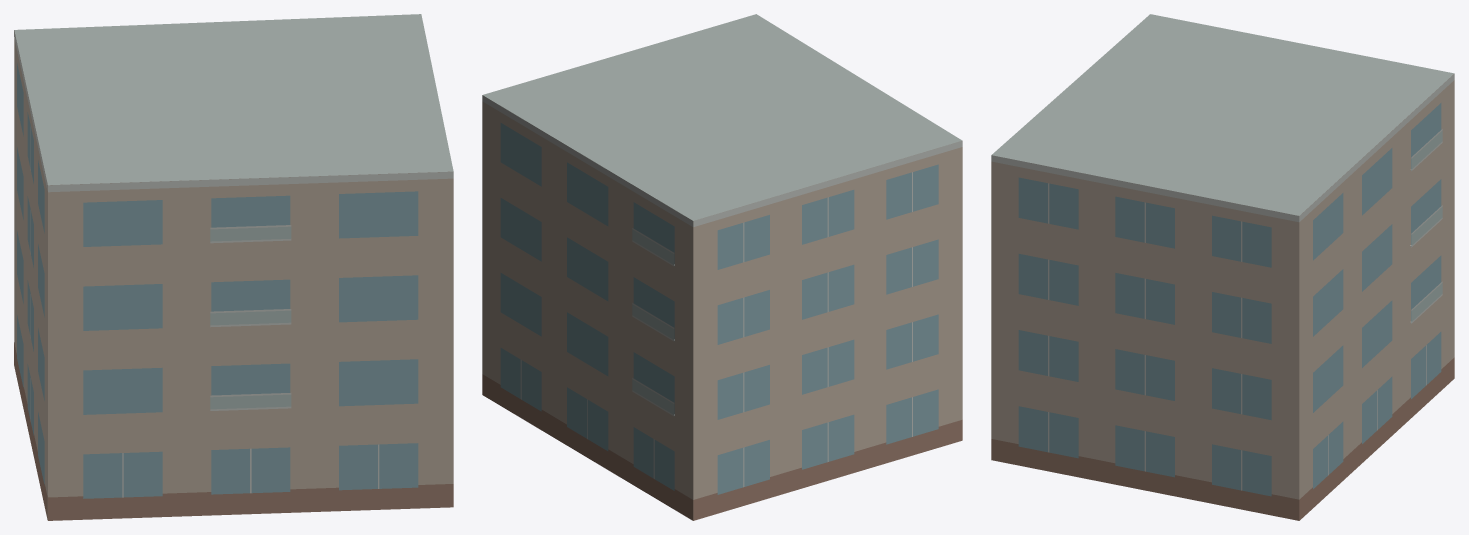
Rendered from survey-upis-32932743.glb.
3 views of the same model, side by side, from view 1: azimuth 30°, elevation 25°; view 2: azimuth 150°, elevation 25°; view 3: azimuth 270°, elevation 25° (orthographic). The views are drawn at different scales.
Visible parts, largest first — view 1: survey-upis-32932743.tmp; view 2: survey-upis-32932743.tmp; view 3: survey-upis-32932743.tmp.
Part boxes in pixels (x1,y1,x2,y2): survey-upis-32932743.tmp: (14,14,453,520); survey-upis-32932743.tmp: (482,14,962,520); survey-upis-32932743.tmp: (991,14,1454,520).
Bounding box in the file's own units: 16.55 × 11.65 × 16.05.
